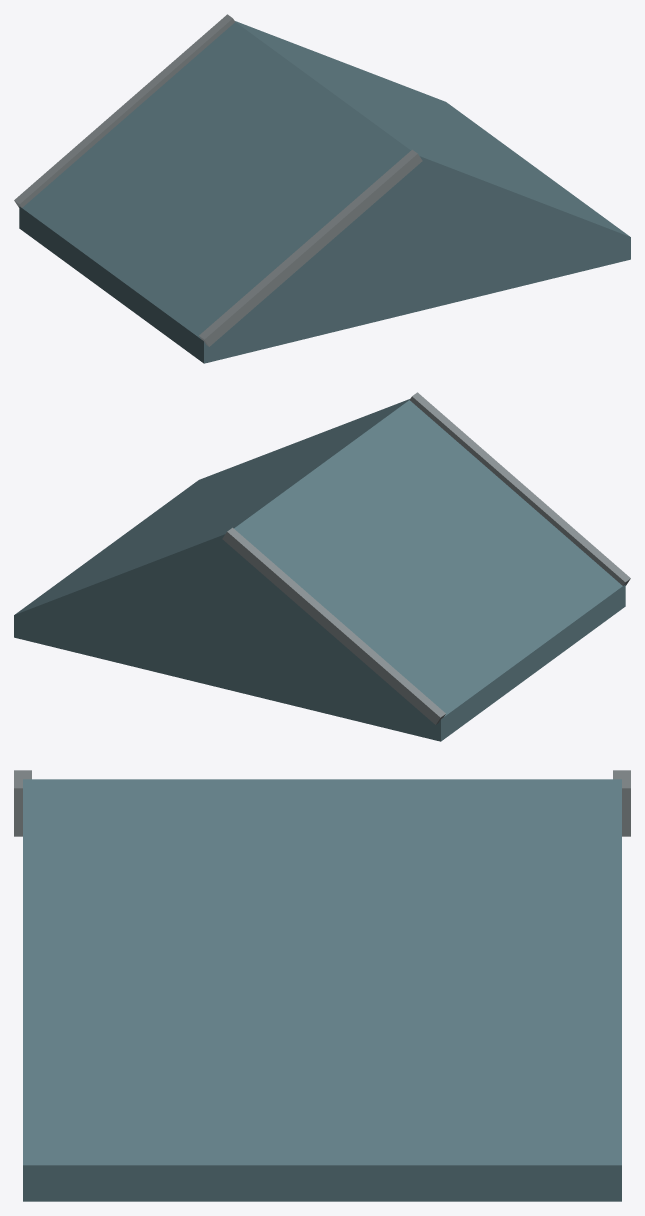
3 views of the same model, one above another, from view 1: azimuth 30°, elevation 25°; view 2: azimuth 150°, elevation 25°; view 3: azimuth 270°, elevation 25° (orthographic). The views are drawn at different scales.
Visible parts, largest first — view 1: QH-A0073_V02_geometry; view 2: QH-A0073_V02_geometry; view 3: QH-A0073_V02_geometry.
Boxes of the visible parts, x1,y1,x2,y2 form: QH-A0073_V02_geometry: (14, 14, 630, 363); QH-A0073_V02_geometry: (14, 392, 630, 741); QH-A0073_V02_geometry: (14, 770, 630, 1201).
Size of the model in its own units: 2.01 by 0.7193 by 1.54.
